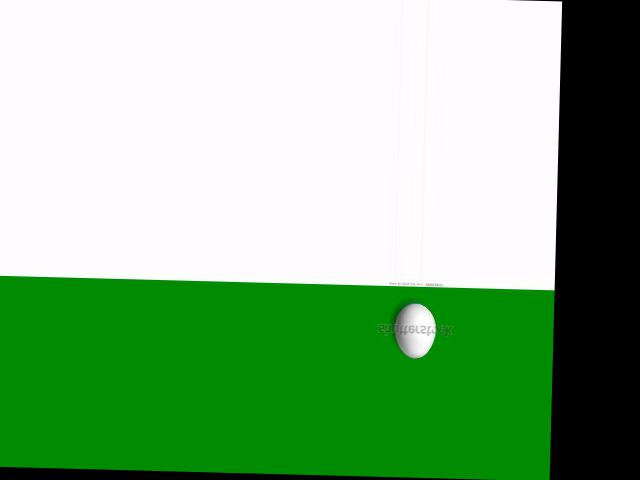egg: (394, 303, 436, 358)
